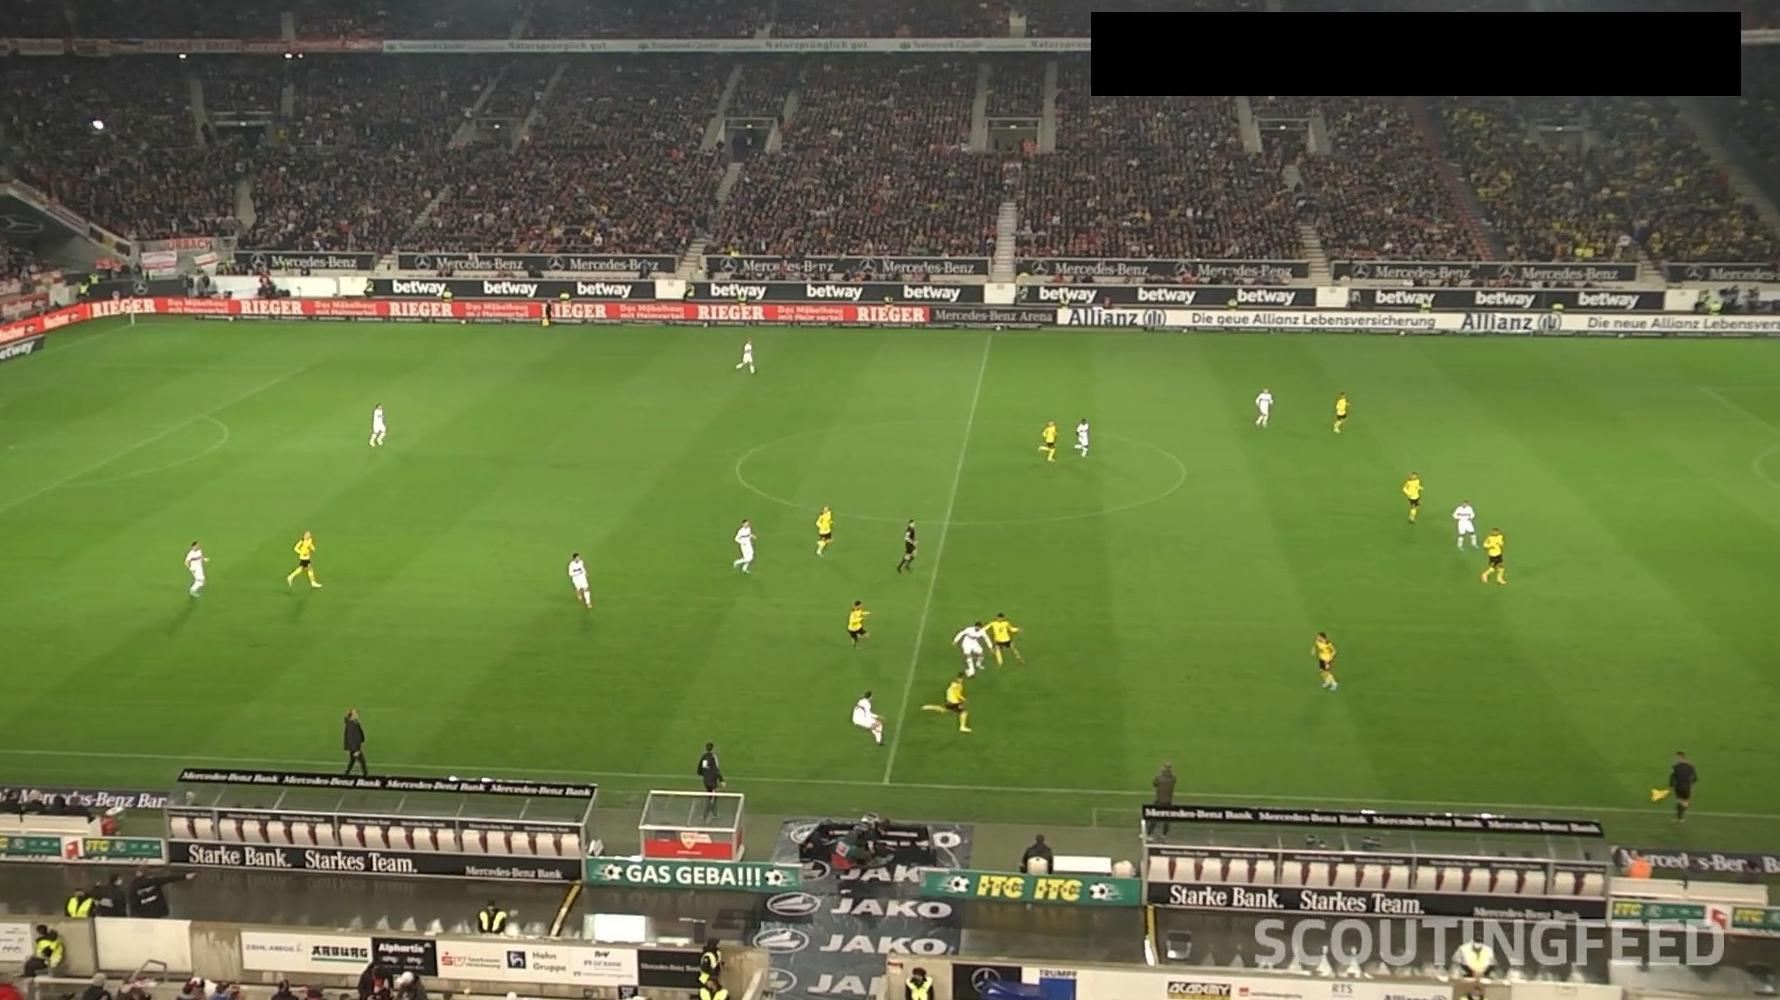ball: (965, 666, 976, 677)
